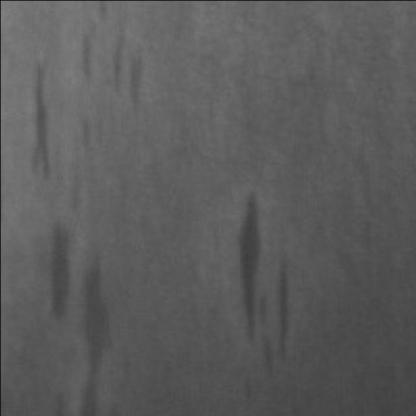inclusion: (226, 190, 298, 374), (71, 241, 123, 416), (70, 19, 148, 123), (13, 54, 56, 189), (31, 220, 75, 329)
